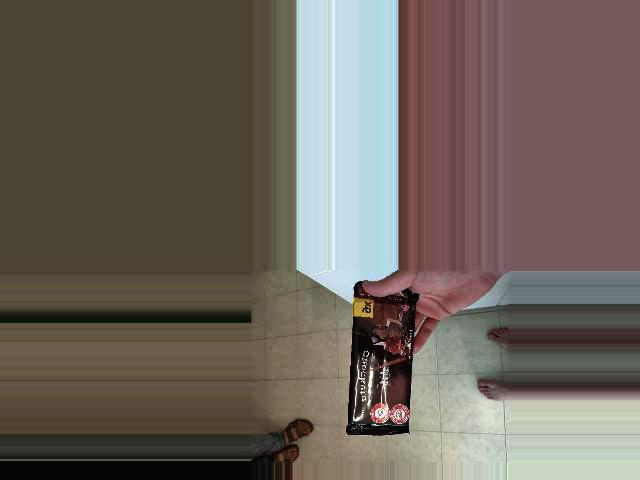chocolate: (276, 359, 434, 442)
